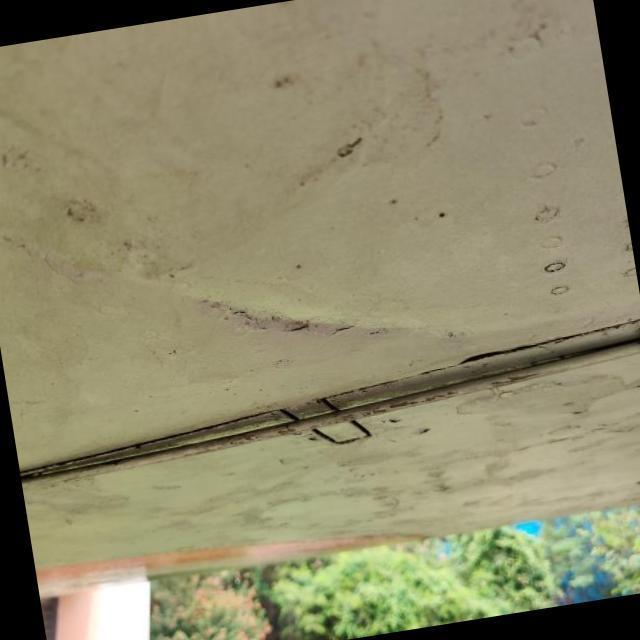Dent: (142, 206, 448, 404)
